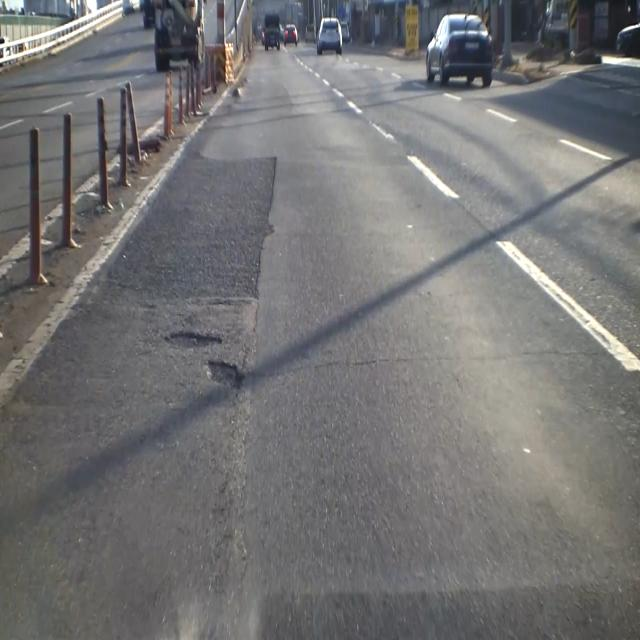Pothole: (157, 321, 231, 357), (203, 351, 249, 398)
